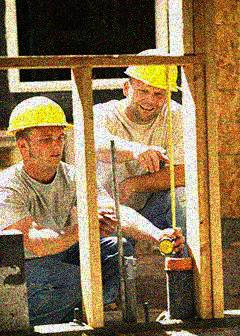helmet: (6, 95, 73, 169), (121, 49, 180, 119)
